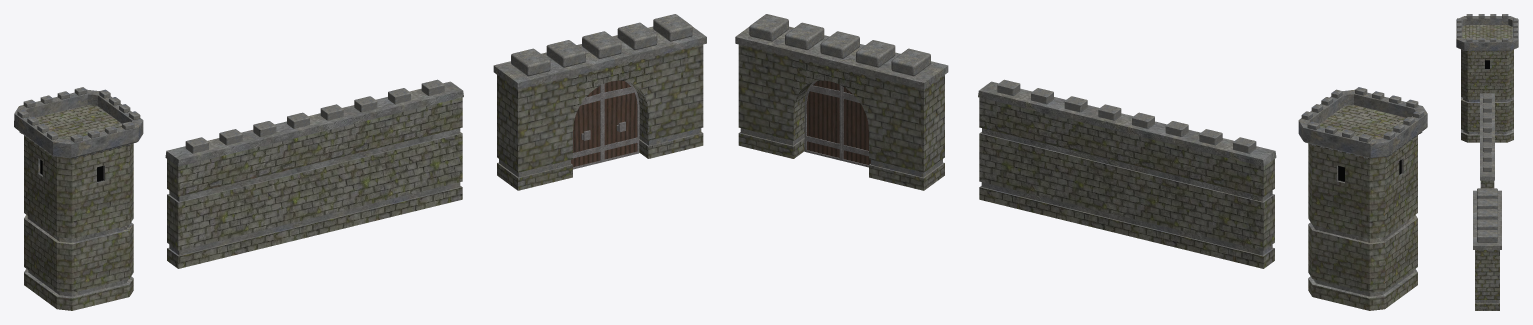
The model's file is walls.glb.
The picture shows the model from 3 angles, left to right: view 1: azimuth 30°, elevation 25°; view 2: azimuth 150°, elevation 25°; view 3: azimuth 270°, elevation 25°; orthographic projection. The views are drawn at different scales.
Parts seen in each view (by area): view 1: wall, wall-gate, wall-tower; view 2: wall, wall-gate, wall-tower; view 3: wall-tower, wall-gate, wall.
Boxes of the visible parts, x1,y1,x2,y2 form: wall: [165, 79, 463, 268]; wall-gate: [493, 14, 706, 190]; wall-tower: [14, 87, 143, 310]; wall: [978, 79, 1276, 268]; wall-gate: [735, 14, 948, 190]; wall-tower: [1298, 87, 1427, 310]; wall-tower: [1456, 14, 1518, 142]; wall-gate: [1473, 188, 1501, 310]; wall: [1480, 93, 1494, 188].
Bounding box in the file's own units: 27.7 × 7 × 3.79.
4 materials, 4 textured.
